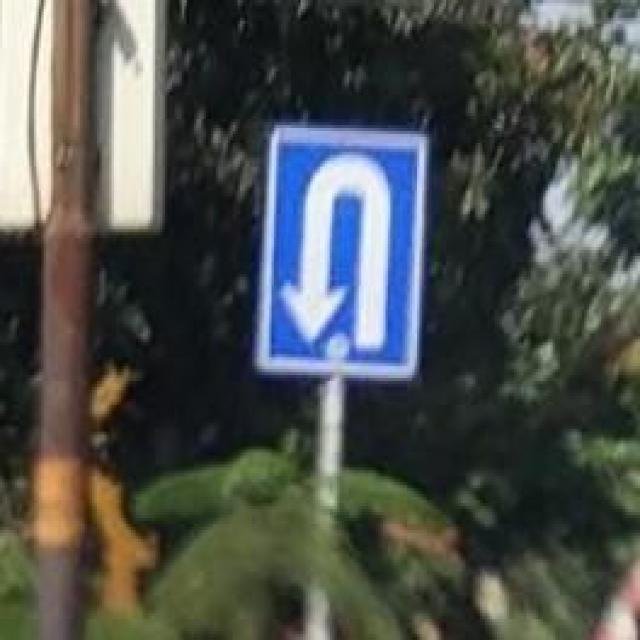U-turn: (274, 134, 413, 373)
